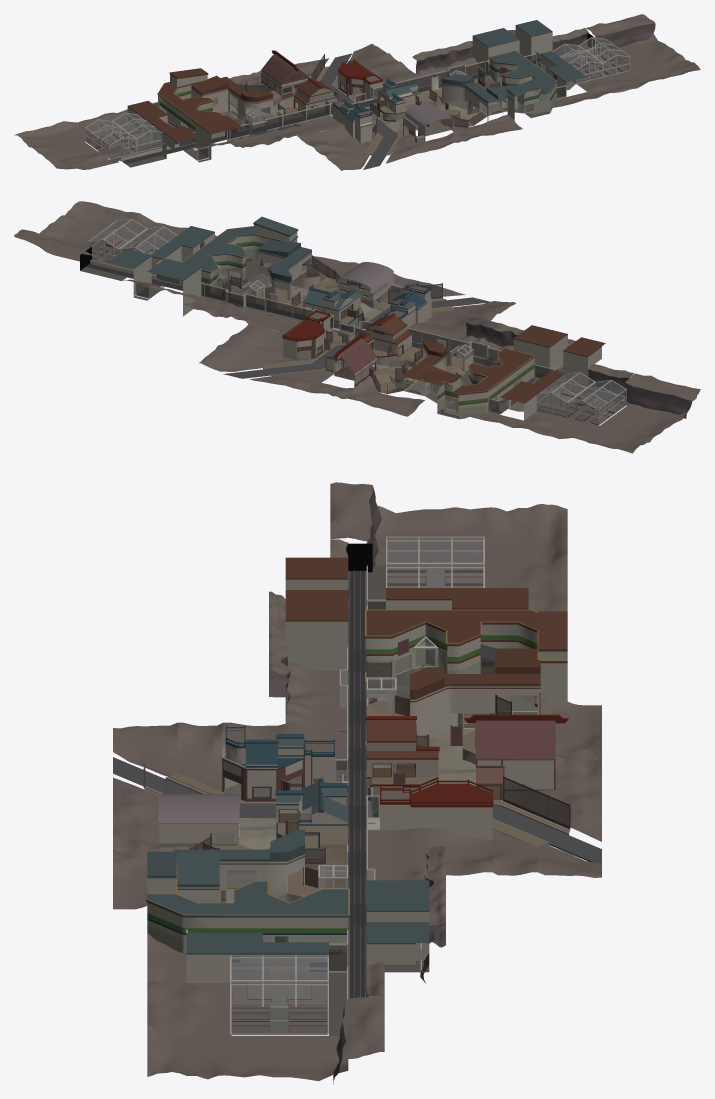
Rendered from world.glb.
3 views of the same model, one above another, from view 1: azimuth 30°, elevation 25°; view 2: azimuth 150°, elevation 25°; view 3: azimuth 270°, elevation 25° (orthographic). The views are drawn at different scales.
Visible parts, largest first — view 1: chunk_2_0_mesh, chunk_2_2_mesh, chunk_0_2_mesh, chunk_2_1_mesh, chunk_3_1_mesh, chunk_1_2_mesh, chunk_1_1_mesh, chunk_3_0_mesh, chunk_1_3_mesh, chunk_0_3_mesh, chunk_3_2_mesh, chunk_1_0_mesh (+3 smaller); view 2: chunk_0_2_mesh, chunk_2_1_mesh, chunk_2_2_mesh, chunk_1_3_mesh, chunk_2_0_mesh, chunk_0_3_mesh, chunk_3_1_mesh, chunk_1_1_mesh, chunk_1_2_mesh, chunk_0_1_mesh, chunk_2_3_mesh, chunk_3_0_mesh (+3 smaller); view 3: chunk_1_2_mesh, chunk_3_1_mesh, chunk_1_1_mesh, chunk_1_3_mesh, chunk_2_1_mesh, chunk_2_2_mesh, chunk_0_2_mesh, chunk_3_0_mesh, chunk_2_0_mesh, chunk_1_0_mesh, chunk_0_3_mesh, chunk_3_2_mesh (+2 smaller).
Part boxes in pixels (x1,y1,x2,y2): chunk_2_0_mesh: [388, 74, 553, 149]; chunk_2_2_mesh: [328, 30, 508, 109]; chunk_0_2_mesh: [35, 98, 221, 169]; chunk_2_1_mesh: [358, 51, 532, 133]; chunk_3_1_mesh: [496, 23, 679, 94]; chunk_1_2_mesh: [182, 68, 355, 139]; chunk_1_1_mesh: [207, 99, 389, 148]; chunk_3_0_mesh: [533, 54, 700, 108]; chunk_1_3_mesh: [161, 54, 319, 122]; chunk_0_3_mesh: [14, 83, 181, 150]; chunk_3_2_mesh: [493, 14, 654, 62]; chunk_1_0_mesh: [315, 110, 436, 170]; chunk_0_2_mesh: [479, 350, 692, 436]; chunk_2_1_mesh: [183, 246, 388, 341]; chunk_2_2_mesh: [160, 261, 356, 365]; chunk_1_3_mesh: [286, 338, 487, 419]; chunk_2_0_mesh: [227, 216, 406, 311]; chunk_0_3_mesh: [458, 375, 655, 453]; chunk_3_1_mesh: [25, 218, 235, 288]; chunk_1_1_mesh: [358, 284, 554, 371]; chunk_1_2_mesh: [323, 313, 533, 398]; chunk_0_1_mesh: [535, 331, 700, 401]; chunk_2_3_mesh: [199, 334, 320, 391]; chunk_3_0_mesh: [59, 201, 253, 248]; chunk_1_2_mesh: [357, 611, 495, 816]; chunk_3_1_mesh: [215, 895, 357, 1083]; chunk_1_1_mesh: [222, 600, 357, 811]; chunk_1_3_mesh: [477, 611, 601, 819]; chunk_2_1_mesh: [219, 778, 357, 945]; chunk_2_2_mesh: [357, 779, 493, 940]; chunk_0_2_mesh: [357, 485, 499, 667]; chunk_3_0_mesh: [146, 894, 239, 1079]; chunk_2_0_mesh: [113, 784, 239, 943]; chunk_1_0_mesh: [113, 722, 245, 825]; chunk_0_3_mesh: [459, 504, 567, 629]; chunk_3_2_mesh: [342, 900, 445, 1059].
Bounding box in the file's own units: 14512 × 911 × 5216.
